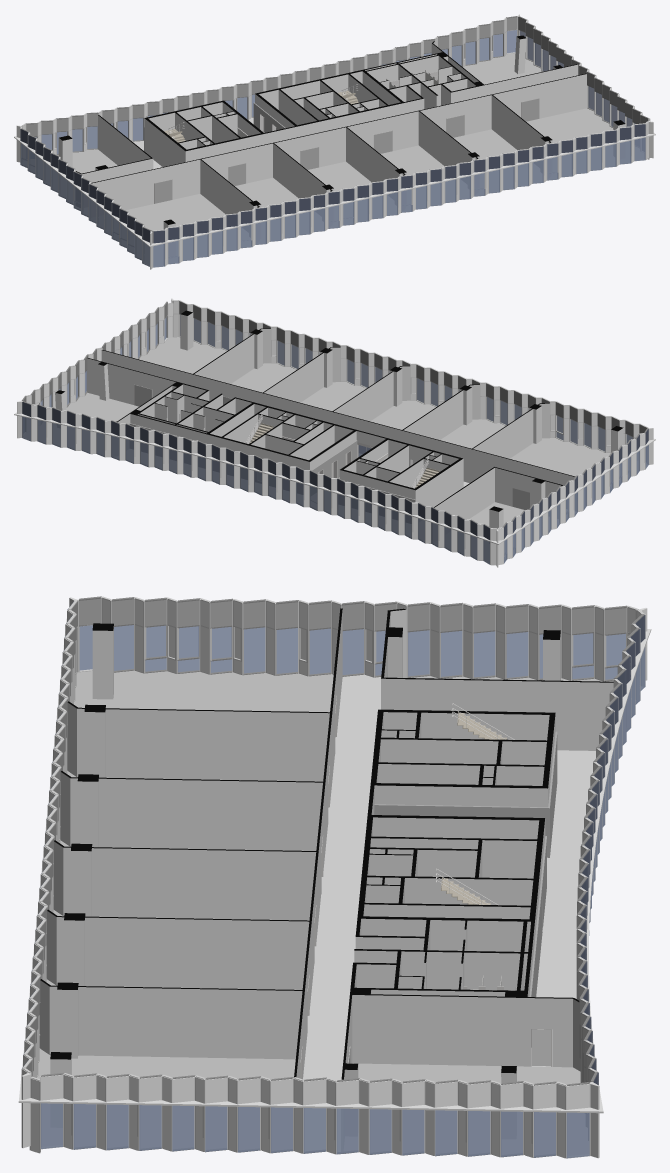
The picture shows the model from 3 angles, top to bottom: view 1: azimuth 30°, elevation 25°; view 2: azimuth 150°, elevation 25°; view 3: azimuth 270°, elevation 25°; orthographic projection. The views are drawn at different scales.
Visible parts, largest first — view 1: A5-7F_Wall, A5-7F_GlassFrame, A5-7F_Glass, A5-7F_Floor, A5-7F_Exterior, A5-7F_Door, A5-7F_Pillar, A5-7F_Wall2, A5-7F_Stairs; view 2: A5-7F_Wall, A5-7F_GlassFrame, A5-7F_Glass, A5-7F_Floor, A5-7F_Pillar, A5-7F_Exterior, A5-7F_Wall2, A5-7F_Door, A5-7F_Stairs; view 3: A5-7F_Wall, A5-7F_GlassFrame, A5-7F_Floor, A5-7F_Glass, A5-7F_Pillar, A5-7F_Exterior, A5-7F_Wall2, A5-7F_Door, A5-7F_Stairs.
Part boxes in pixels (bbox=[...]): A5-7F_Wall: bbox=[76, 41, 586, 242]; A5-7F_GlassFrame: bbox=[20, 16, 650, 267]; A5-7F_Glass: bbox=[20, 30, 645, 267]; A5-7F_Floor: bbox=[23, 53, 643, 265]; A5-7F_Exterior: bbox=[14, 14, 655, 269]; A5-7F_Door: bbox=[154, 98, 539, 203]; A5-7F_Pillar: bbox=[58, 35, 625, 258]; A5-7F_Wall2: bbox=[144, 102, 285, 150]; A5-7F_Stairs: bbox=[164, 84, 358, 142]; A5-7F_Wall: bbox=[87, 328, 575, 542]; A5-7F_GlassFrame: bbox=[21, 300, 648, 565]; A5-7F_Glass: bbox=[22, 315, 648, 564]; A5-7F_Floor: bbox=[24, 337, 646, 561]; A5-7F_Pillar: bbox=[55, 310, 623, 528]; A5-7F_Exterior: bbox=[14, 298, 655, 567]; A5-7F_Wall2: bbox=[129, 423, 415, 522]; A5-7F_Door: bbox=[127, 384, 529, 509]; A5-7F_Stairs: bbox=[244, 412, 439, 488]; A5-7F_Wall: bbox=[39, 608, 613, 1151]; A5-7F_GlassFrame: bbox=[21, 596, 645, 1158]; A5-7F_Floor: bbox=[37, 670, 613, 1158]; A5-7F_Glass: bbox=[22, 602, 645, 1158]; A5-7F_Pillar: bbox=[50, 623, 560, 1138]; A5-7F_Exterior: bbox=[18, 597, 651, 1158]; A5-7F_Wall2: bbox=[374, 731, 557, 1047]; A5-7F_Door: bbox=[300, 673, 551, 1079]; A5-7F_Stairs: bbox=[436, 703, 514, 905].
Size of the model in its own units: 61.7 by 5.55 by 33.45.
